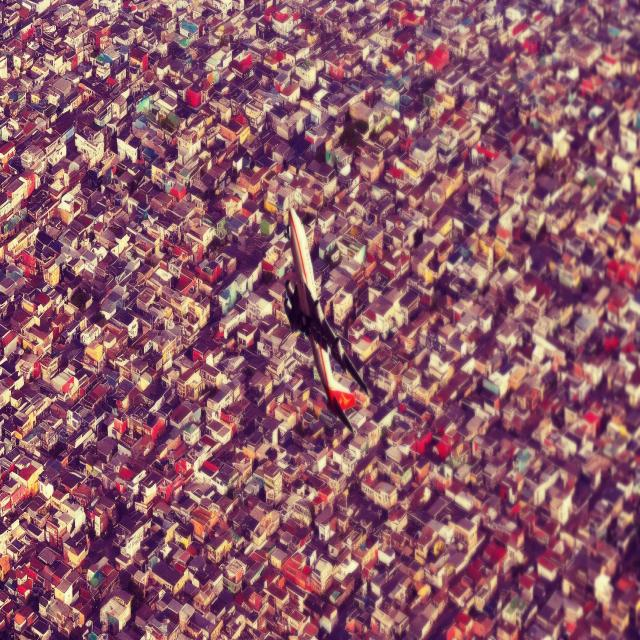airplane: (281, 205, 370, 438)
